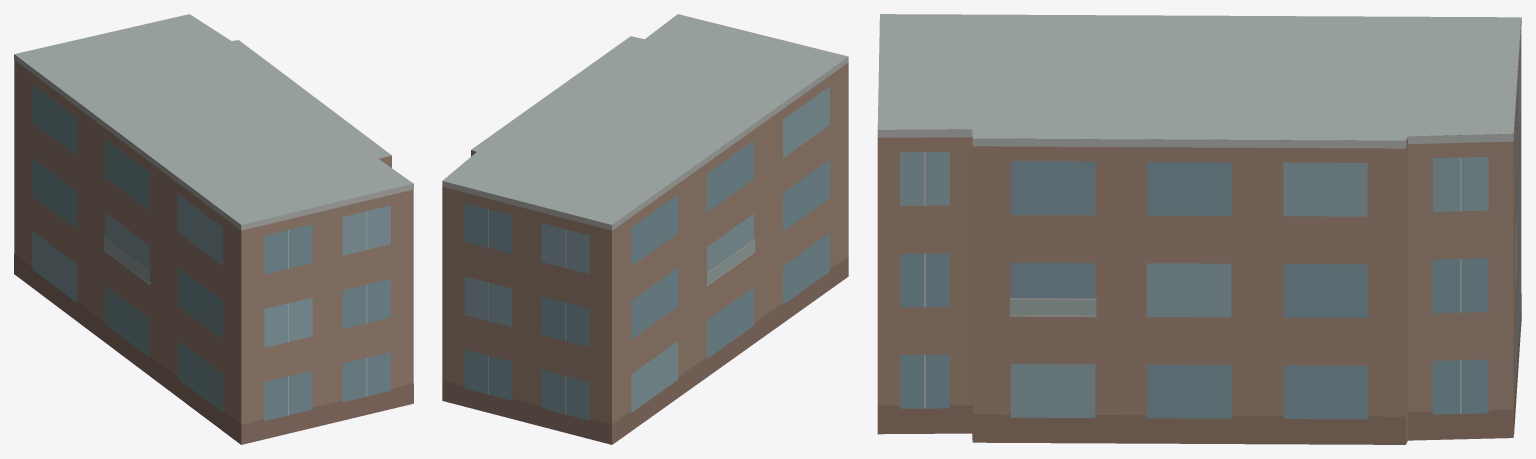
Rendered from survey-upis-32769339.glb.
The picture shows the model from 3 angles, left to right: view 1: azimuth 30°, elevation 25°; view 2: azimuth 150°, elevation 25°; view 3: azimuth 270°, elevation 25°; orthographic projection. The views are drawn at different scales.
Parts seen in each view (by area): view 1: survey-upis-32769339.tmp; view 2: survey-upis-32769339.tmp; view 3: survey-upis-32769339.tmp.
Part boxes in pixels (x1,y1,x2,y2): survey-upis-32769339.tmp: [14, 14, 413, 444]; survey-upis-32769339.tmp: [442, 14, 848, 444]; survey-upis-32769339.tmp: [877, 14, 1521, 444].
Size of the model in its own units: 8.41 by 9.4 by 18.04.
